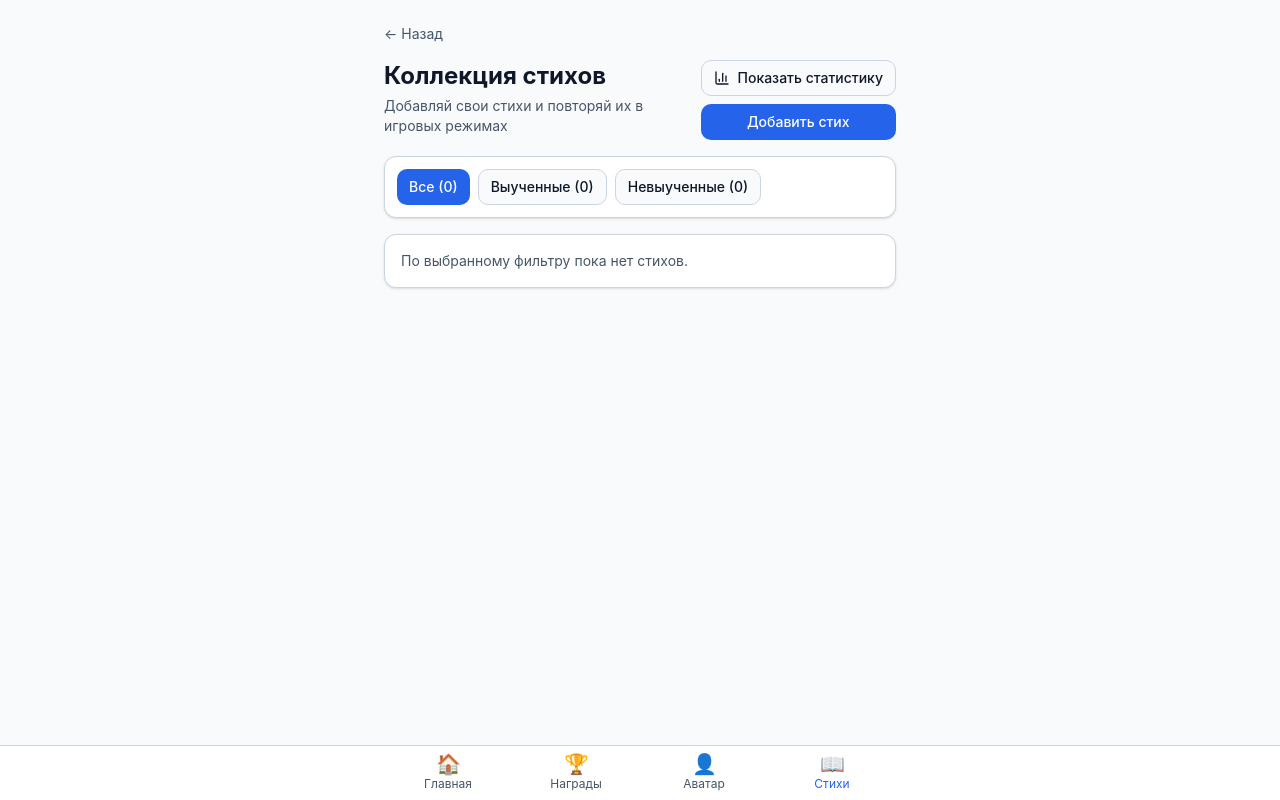
CollectionPage (integration) › uses only manifest books in the Bible book dropdown
expect the heading "Коллекция стихов" is shown: met, box [384, 61, 606, 90]
Click the button "Добавить стих".
click(798, 122)  # box [700, 104, 896, 140]
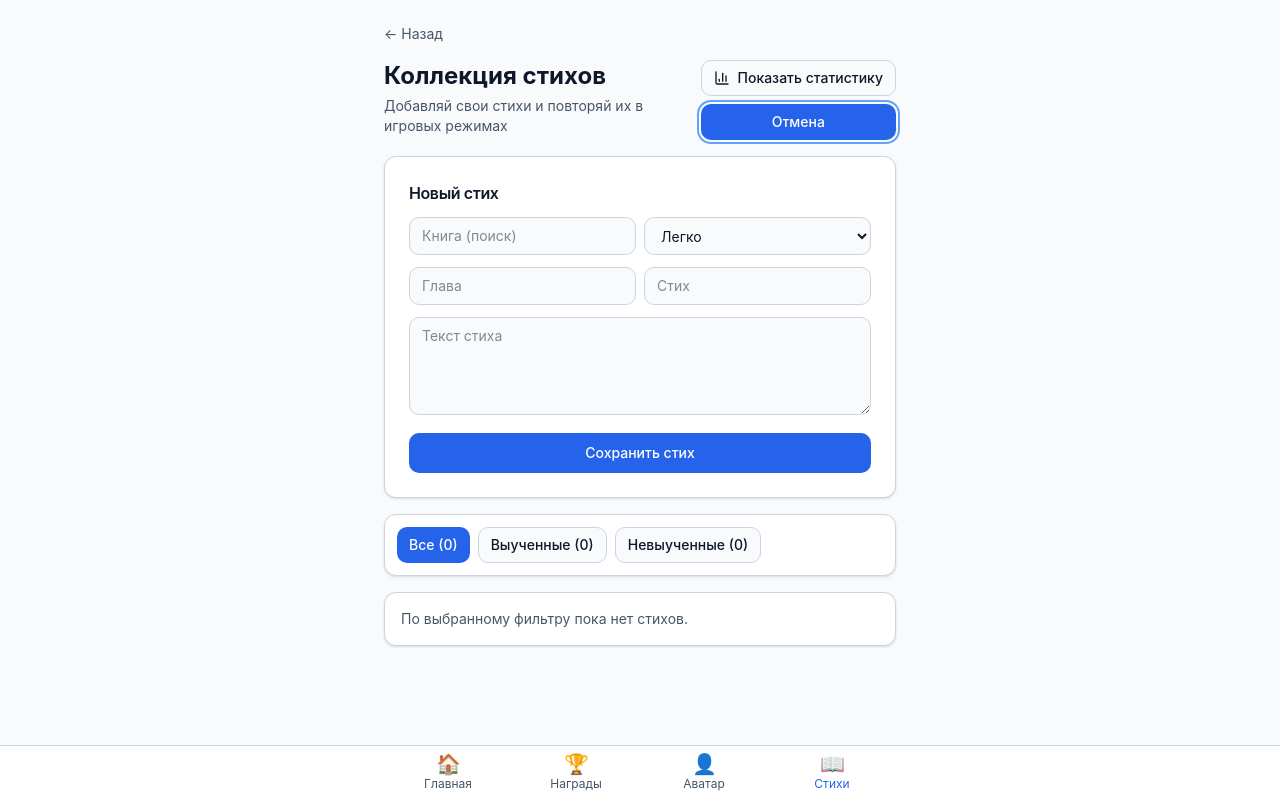
Click the field labelled "Книга".
click(522, 236)  # box [409, 217, 636, 255]
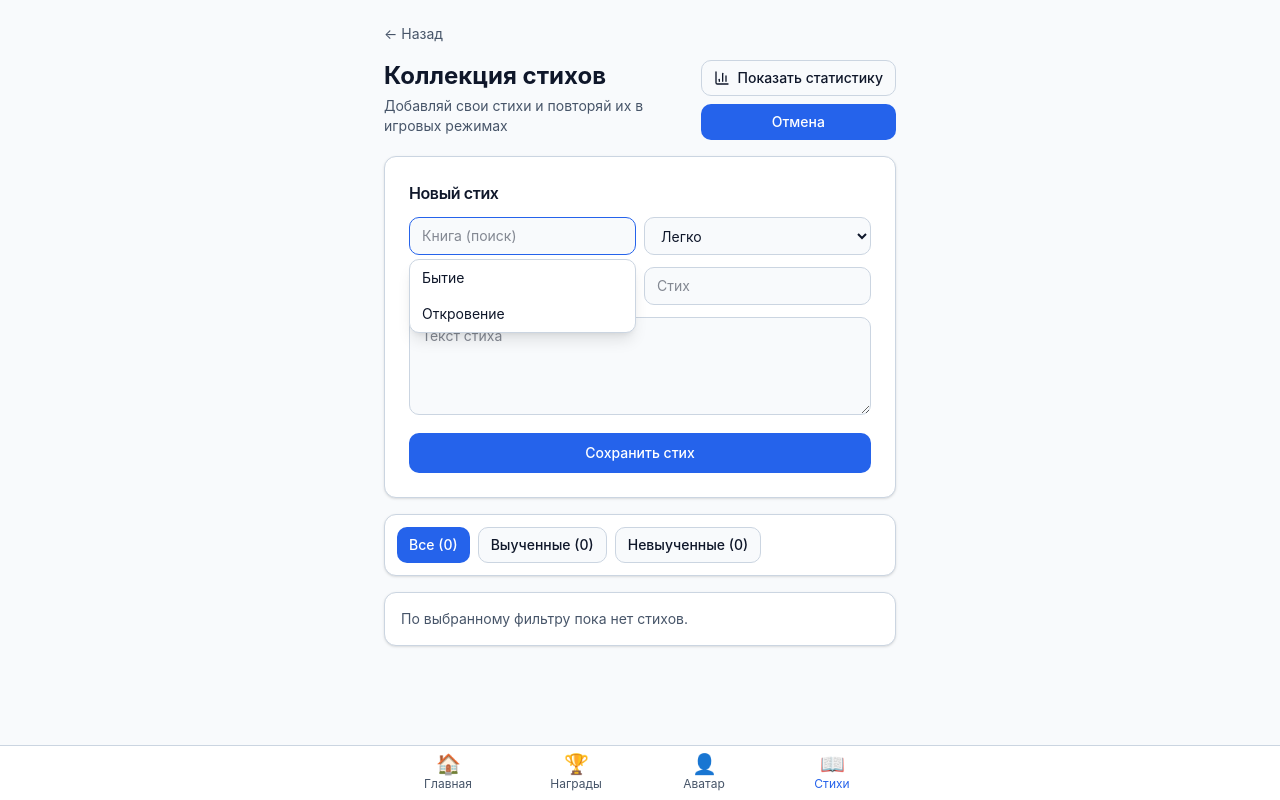
expect the list item "Откровение" is shown: met, box [422, 305, 505, 322]
expect the list item "Бытие" is shown: met, box [422, 269, 464, 286]
